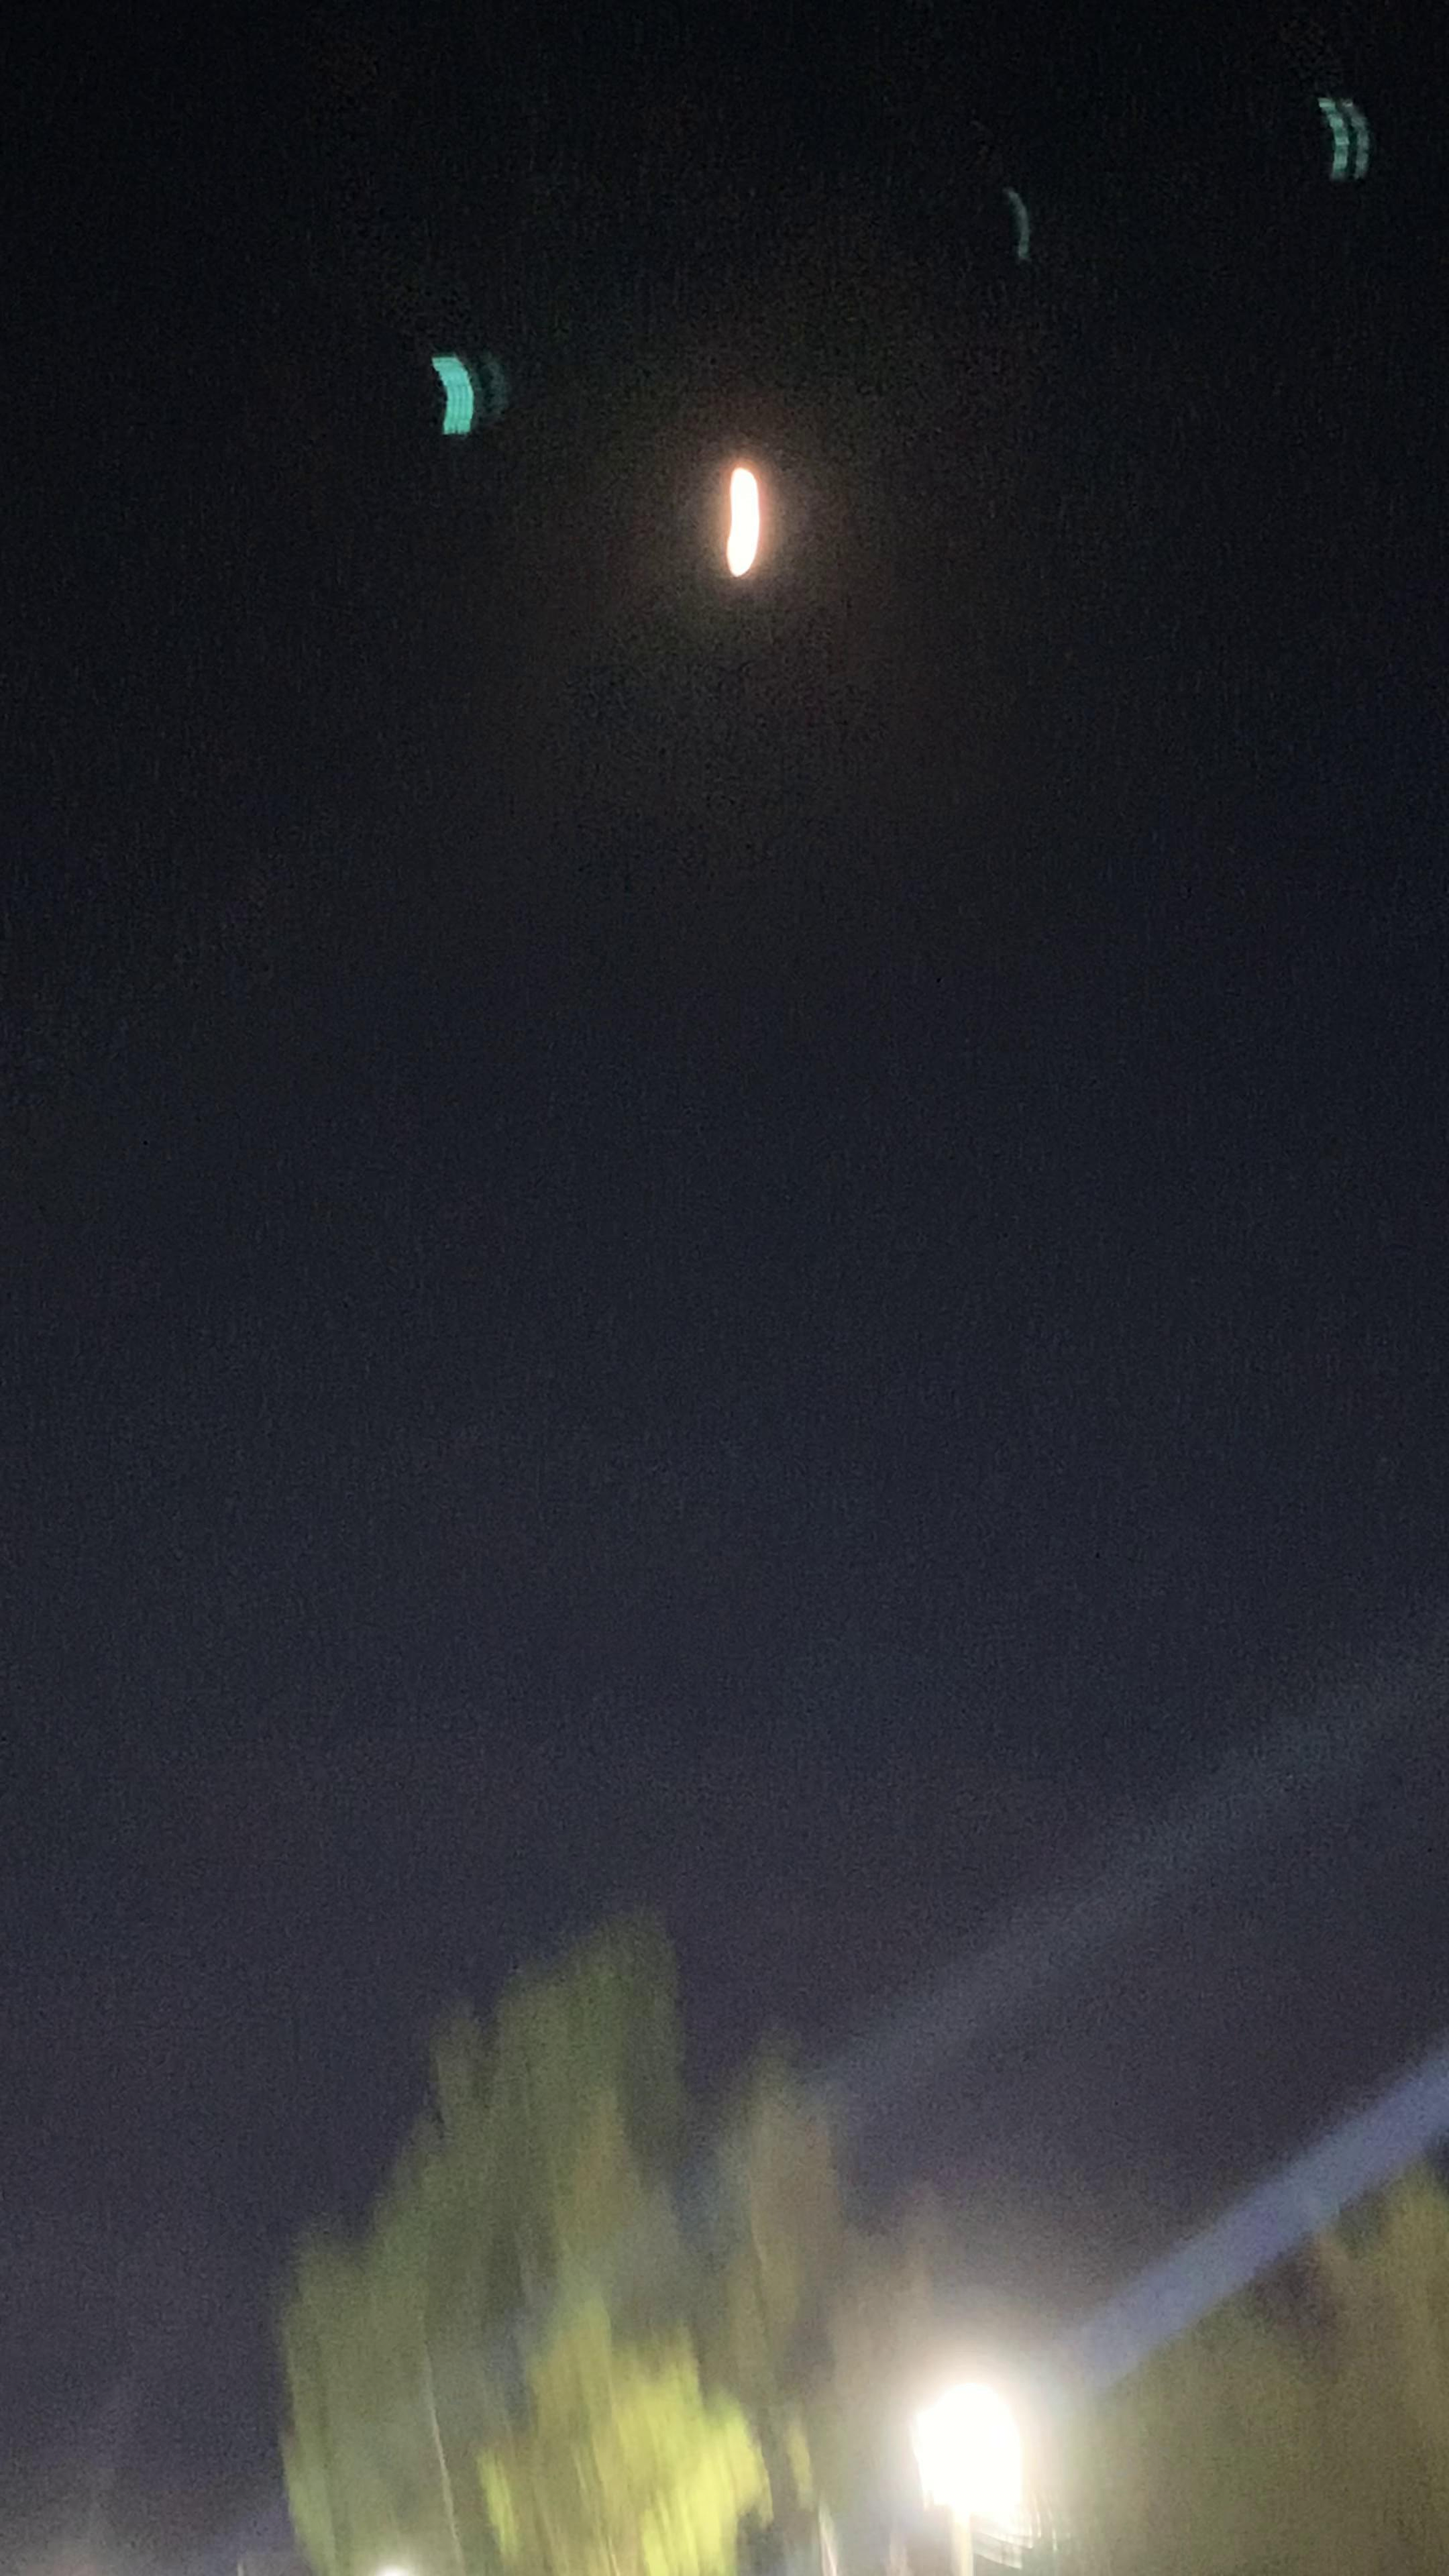moon: (672, 456, 832, 602)
